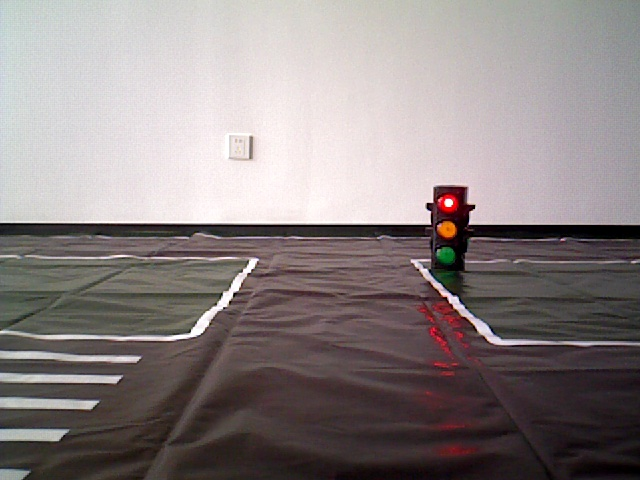red: (431, 187, 462, 269)
